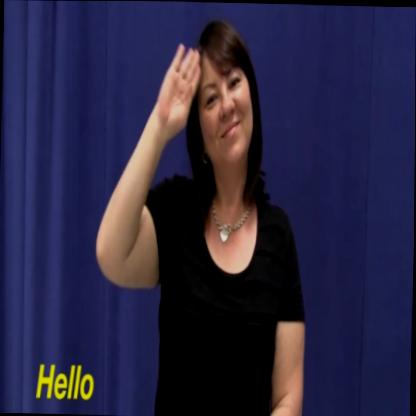Hello: (92, 19, 314, 416)
